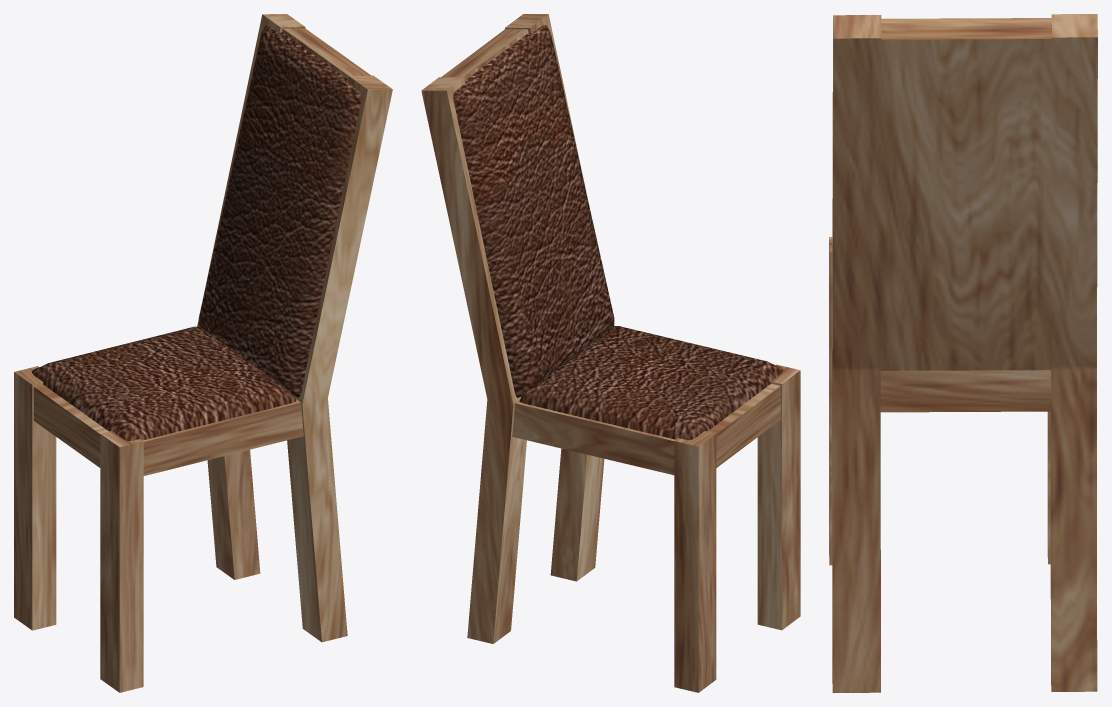
File: chair_01.obj
3 renders of one model, left to right at view 1: azimuth 30°, elevation 25°; view 2: azimuth 150°, elevation 25°; view 3: azimuth 270°, elevation 25°, orthographic. The views are drawn at different scales.
Parts seen in each view (by area): view 1: chair_01; view 2: chair_01; view 3: chair_01.
Part boxes in pixels (box(x1,y1,x2,y2)): chair_01: box(14, 14, 392, 692); chair_01: box(421, 14, 800, 692); chair_01: box(829, 14, 1097, 692).
Size of the model in its own units: 2.02 by 3.77 by 1.33.
